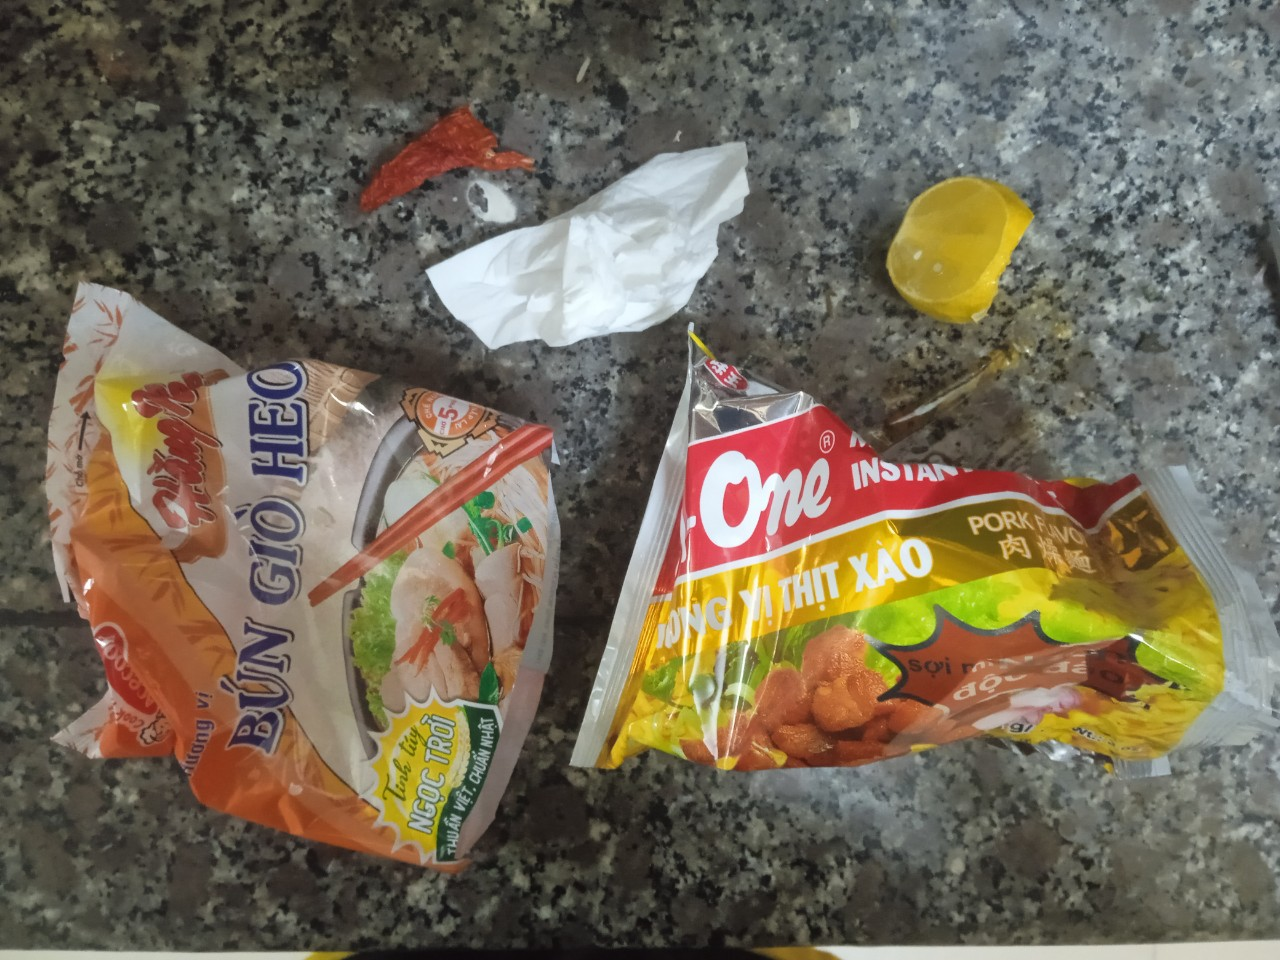food: (854, 167, 1086, 355), (347, 103, 524, 245)
paper: (401, 132, 803, 355)
plastic: (564, 319, 1280, 846), (21, 279, 549, 889)
